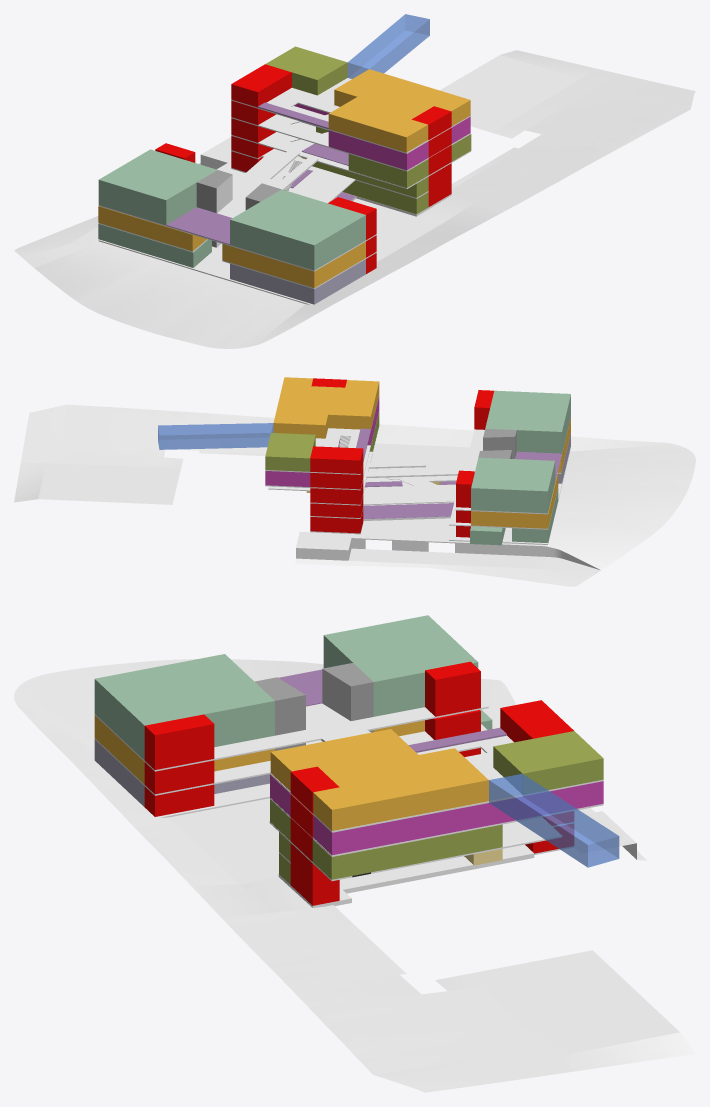
Rendered from Option1-Blocking.obj.
3 views of the same model, one above another, from view 1: azimuth 30°, elevation 25°; view 2: azimuth 150°, elevation 25°; view 3: azimuth 270°, elevation 25° (orthographic). The views are drawn at different scales.
Parts seen in each view (by area): view 1: Mesh184 Group178 Group177 Model, Mesh183 Group178 Group177 Model, Mesh175 Group173 Component_772_1 Group2 Model, Mesh91 Group91 Component_771_1 Group2 Model, Mesh138 Group134 Component_772_1 Group2 Model, Mesh1 Group1 Model, Mesh32 Group35 Component_768_1 Group2 Model, Mesh36 Group39 Component_762_1 Component_768_1 Group2 Model, Mesh92 Group92 Component_771_1 Group2 Model, Mesh79 Group81 Component_770_1 Group2 Model, Mesh87 Group88 Component_767_1 Component_770_1 Group2 Model, Mesh132 Component_9_1 Component_771_1 Group2 Model (+21 smaller); view 2: Mesh184 Group178 Group177 Model, Mesh183 Group178 Group177 Model, Mesh91 Group91 Component_771_1 Group2 Model, Mesh138 Group134 Component_772_1 Group2 Model, Mesh175 Group173 Component_772_1 Group2 Model, Mesh1 Group1 Model, Mesh36 Group39 Component_762_1 Component_768_1 Group2 Model, Mesh185 Group178 Group177 Model, Mesh92 Group92 Component_771_1 Group2 Model, Mesh132 Component_9_1 Component_771_1 Group2 Model, Mesh31 Group34 Component_768_1 Group2 Model, Mesh136 Group132 Component_772_1 Group2 Model (+16 smaller); view 3: Mesh184 Group178 Group177 Model, Mesh183 Group178 Group177 Model, Mesh91 Group91 Component_771_1 Group2 Model, Mesh175 Group173 Component_772_1 Group2 Model, Mesh138 Group134 Component_772_1 Group2 Model, Mesh1 Group1 Model, Mesh92 Group92 Component_771_1 Group2 Model, Mesh127 Group129 Component_771_1 Group2 Model, Mesh182 m_4_1 Component_772_1 Group2 Model, Mesh174 Group172 Component_772_1 Group2 Model, Mesh139 Group136 Group135 Component_772_1 Group2 Model, Mesh83 Group85 Component_761_1 Component_770_1 Group2 Model (+20 smaller).
Part boxes in pixels (x1,y1,x2,y2): Mesh184 Group178 Group177 Model: (21, 106, 691, 348); Mesh183 Group178 Group177 Model: (440, 50, 695, 144); Mesh175 Group173 Component_772_1 Group2 Model: (230, 189, 365, 270); Mesh91 Group91 Component_771_1 Group2 Model: (328, 69, 470, 152); Mesh138 Group134 Component_772_1 Group2 Model: (98, 149, 217, 225); Mesh1 Group1 Model: (347, 14, 429, 78); Mesh32 Group35 Component_768_1 Group2 Model: (222, 241, 365, 287); Mesh36 Group39 Component_762_1 Component_768_1 Group2 Model: (231, 149, 428, 202); Mesh92 Group92 Component_771_1 Group2 Model: (265, 46, 347, 95); Mesh79 Group81 Component_770_1 Group2 Model: (230, 259, 365, 304); Mesh87 Group88 Component_767_1 Component_770_1 Group2 Model: (98, 223, 211, 267); Mesh132 Component_9_1 Component_771_1 Group2 Model: (231, 64, 291, 107); Mesh184 Group178 Group177 Model: (61, 404, 695, 581); Mesh183 Group178 Group177 Model: (14, 406, 183, 504); Mesh91 Group91 Component_771_1 Group2 Model: (273, 377, 379, 438); Mesh138 Group134 Component_772_1 Group2 Model: (471, 457, 555, 513); Mesh175 Group173 Component_772_1 Group2 Model: (485, 390, 570, 453); Mesh1 Group1 Model: (158, 423, 273, 449); Mesh36 Group39 Component_762_1 Component_768_1 Group2 Model: (310, 467, 457, 518); Mesh185 Group178 Group177 Model: (295, 558, 583, 586); Mesh92 Group92 Component_771_1 Group2 Model: (265, 433, 315, 471); Mesh132 Component_9_1 Component_771_1 Group2 Model: (310, 446, 363, 473); Mesh31 Group34 Component_768_1 Group2 Model: (471, 472, 558, 528); Mesh136 Group132 Component_772_1 Group2 Model: (366, 460, 466, 478); Mesh184 Group178 Group177 Model: (14, 659, 636, 1077); Mesh183 Group178 Group177 Model: (349, 950, 695, 1092); Mesh91 Group91 Component_771_1 Group2 Model: (270, 729, 488, 830); Mesh175 Group173 Component_772_1 Group2 Model: (94, 654, 274, 759); Mesh138 Group134 Component_772_1 Group2 Model: (323, 615, 478, 716); Mesh1 Group1 Model: (489, 773, 619, 867); Mesh92 Group92 Component_771_1 Group2 Model: (493, 731, 603, 794); Mesh127 Group129 Component_771_1 Group2 Model: (411, 781, 603, 840); Mesh182 m_4_1 Component_772_1 Group2 Model: (94, 700, 488, 771); Mesh174 Group172 Component_772_1 Group2 Model: (144, 714, 214, 769); Mesh139 Group136 Group135 Component_772_1 Group2 Model: (270, 799, 422, 879); Mesh83 Group85 Component_761_1 Component_770_1 Group2 Model: (278, 844, 534, 907).
Size of the model in its own units: 7623 by 1082 by 4901.
